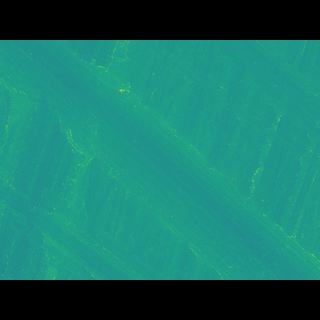Loch: (0, 68, 319, 250), (0, 152, 167, 249), (204, 70, 319, 151)
